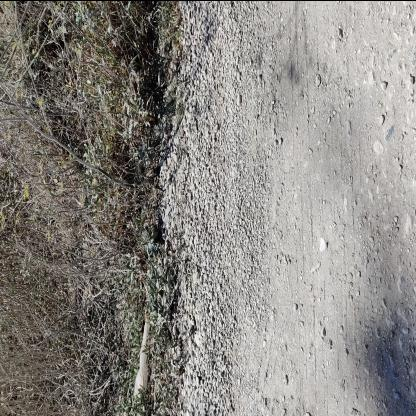plastik: (134, 316, 150, 400)
